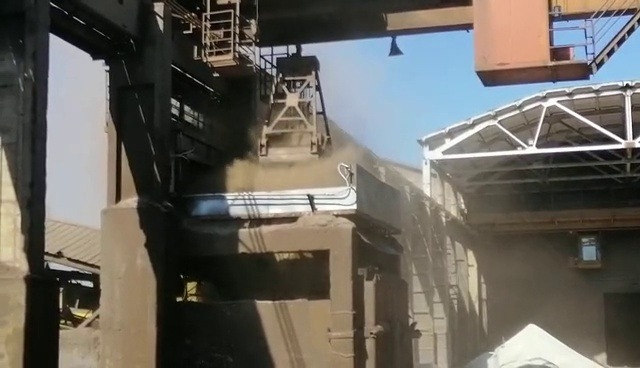dust: (218, 56, 602, 364)
grab: (253, 49, 337, 165)
